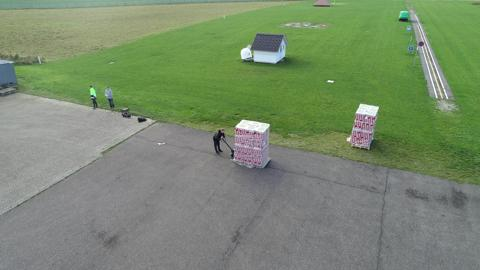RockwoolPallet: (232, 119, 272, 168)
